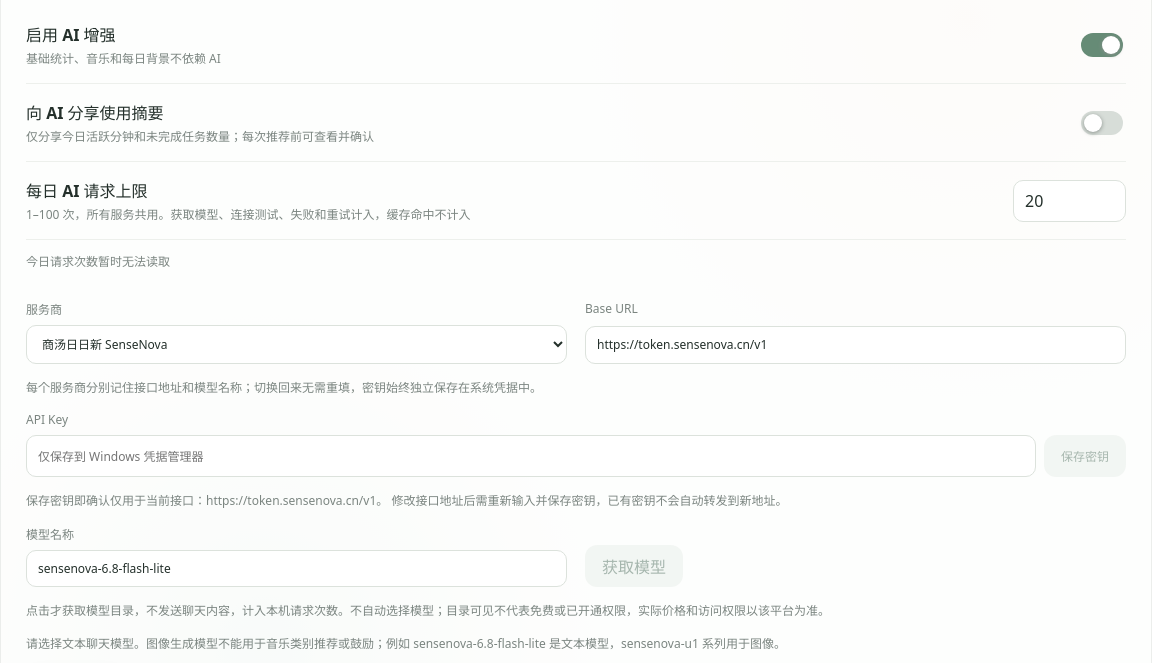
AI 设置与系统设置 › 切换服务商后不接受上一个服务的迟到密钥结果
(page scrolled)
Select "硅基流动 SiliconFlow" in the dropdown labelled "服务商": (296, 345) 26,325 -> 567,364
(page scrolled)
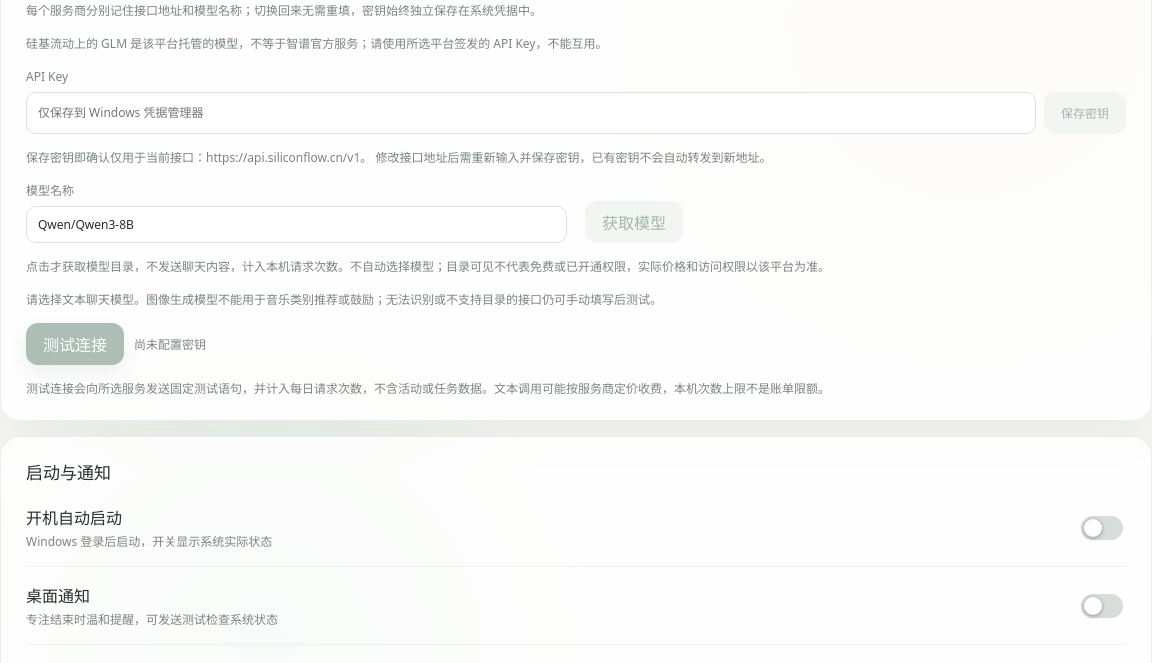
expect the button "测试连接" is disabled: met, box 26,323 -> 124,365
expect the text "尚未配置密钥" is shown: met, box 134,335 -> 206,353
